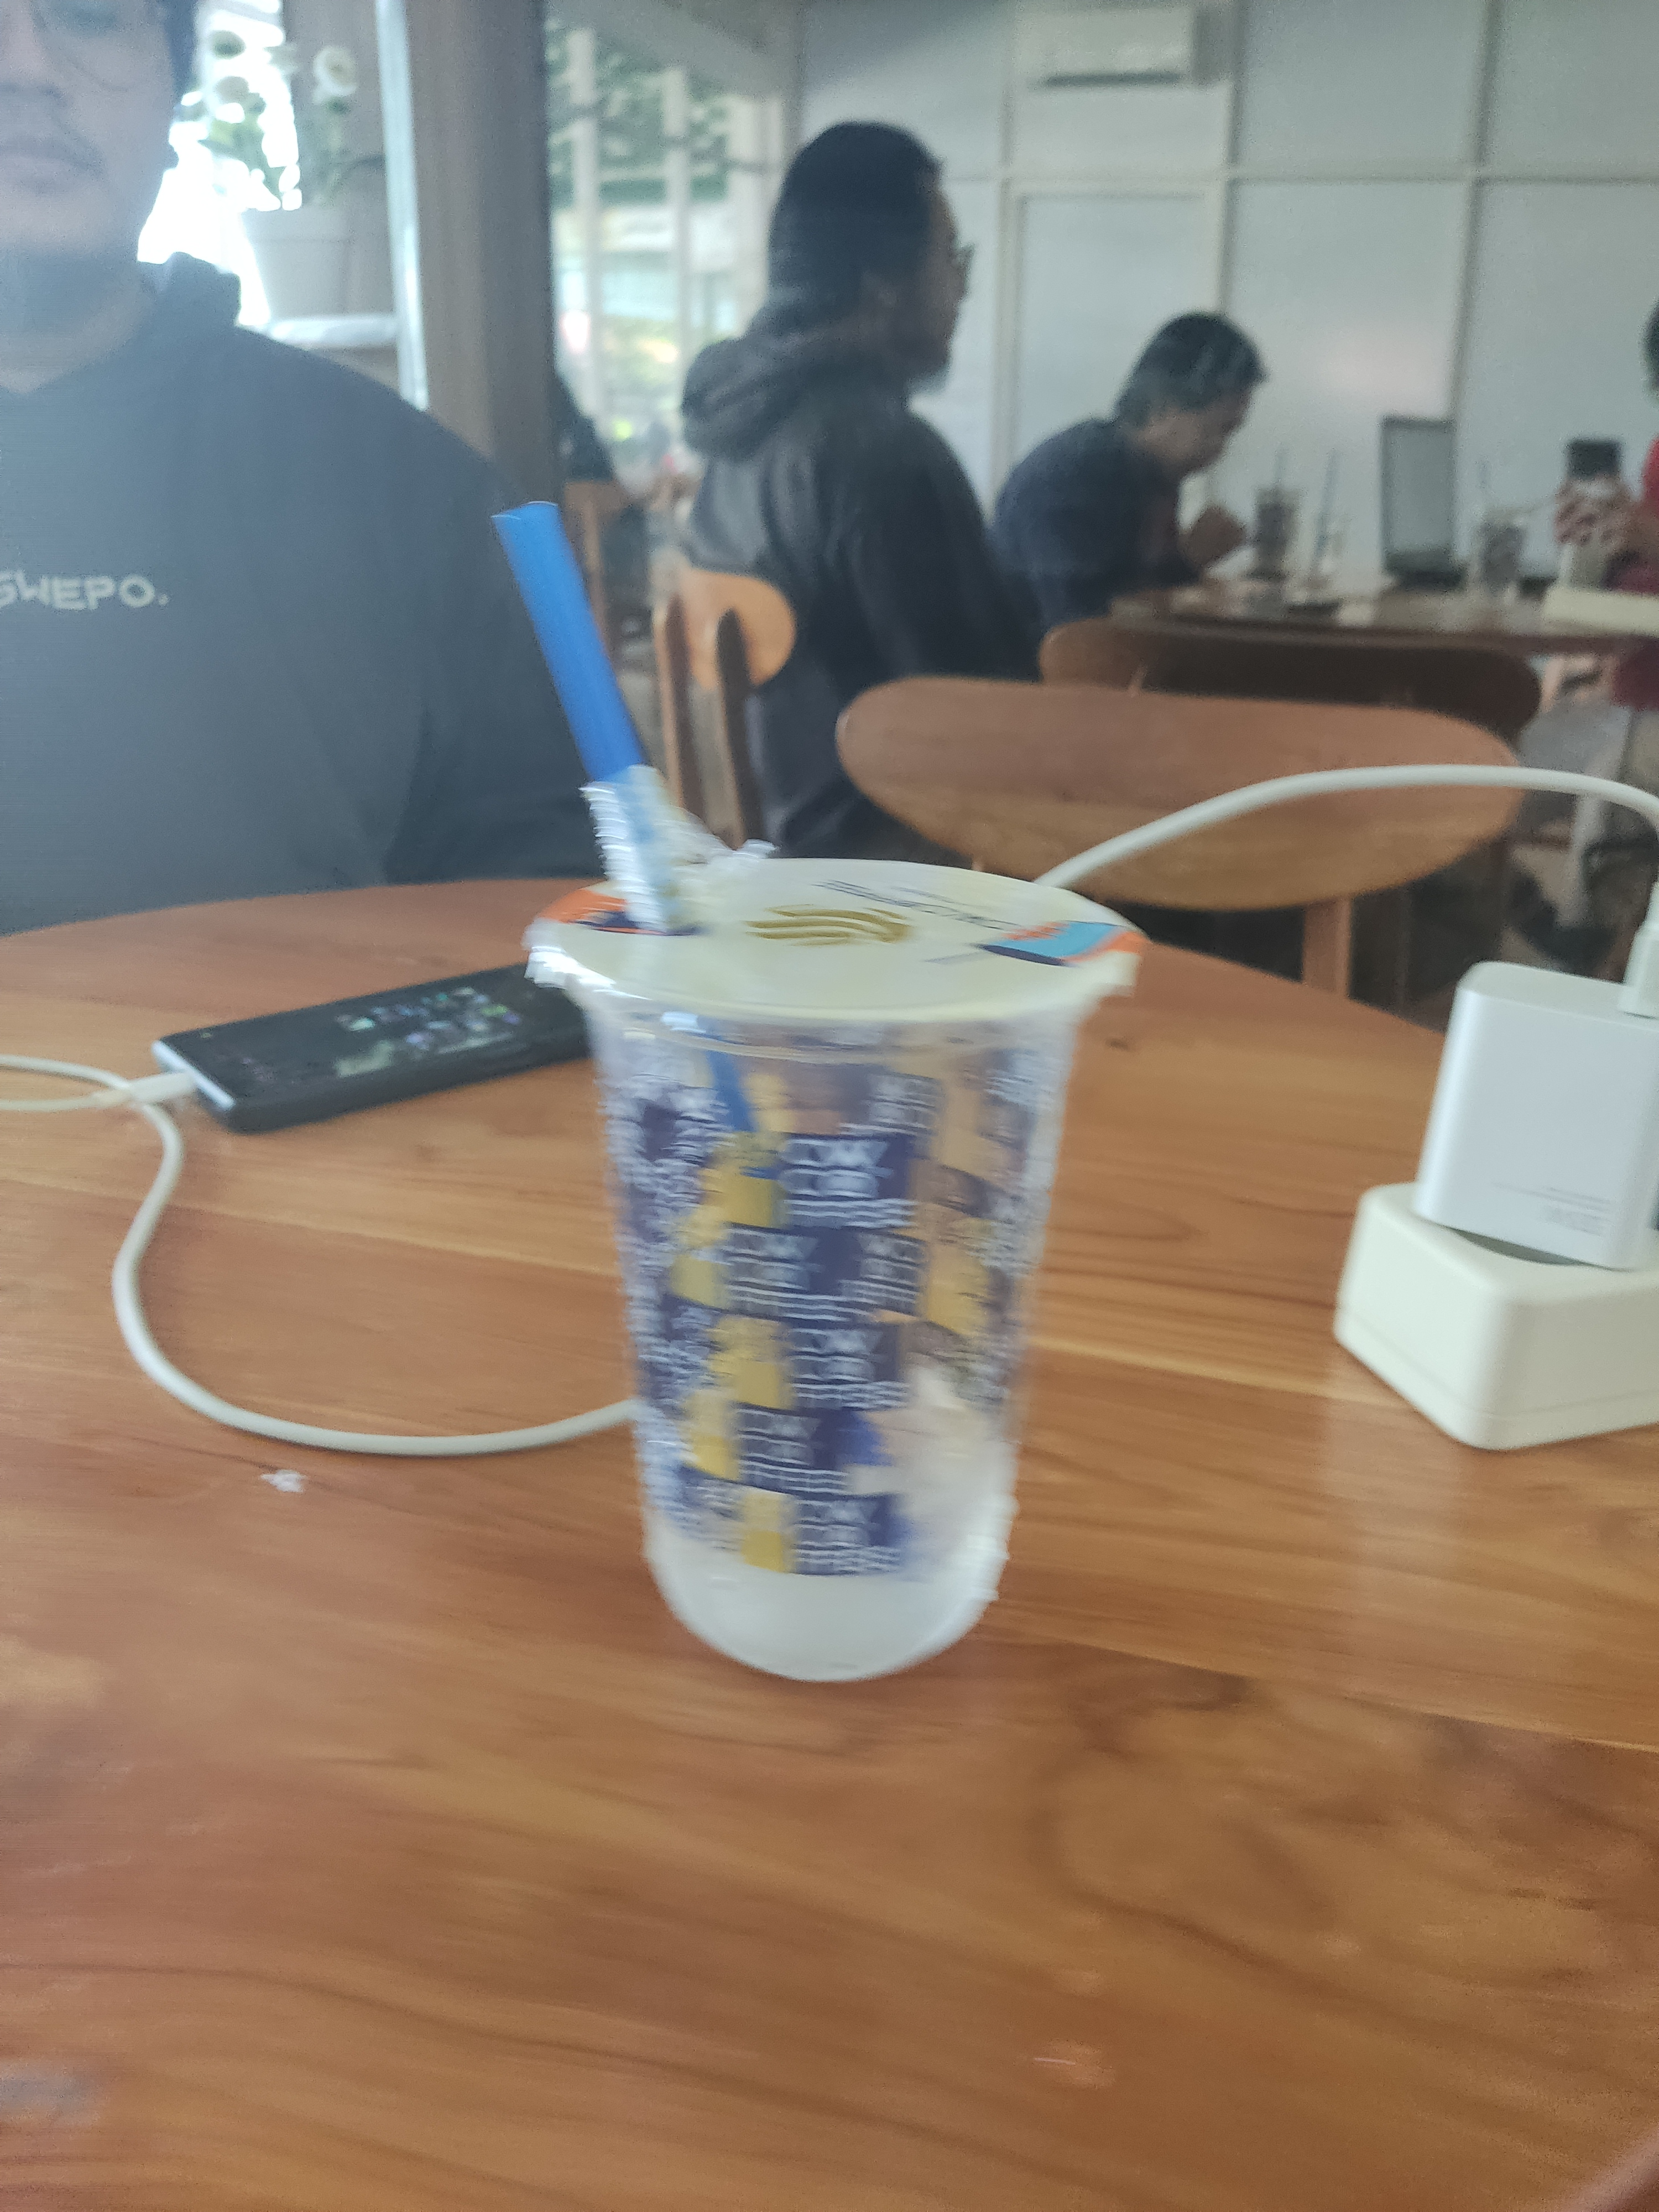Gelas CW: (518, 833, 1138, 1683)
